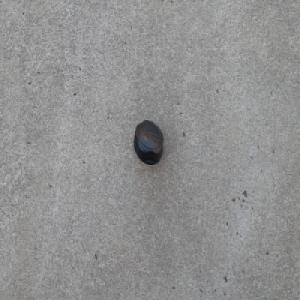FuelCap: (133, 119, 164, 165)
